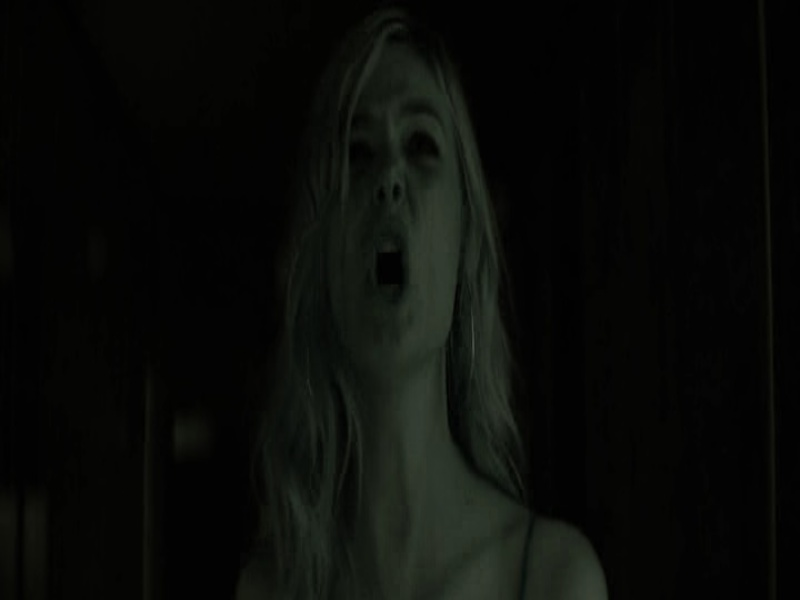TsisyArotava: (301, 38, 498, 395)
